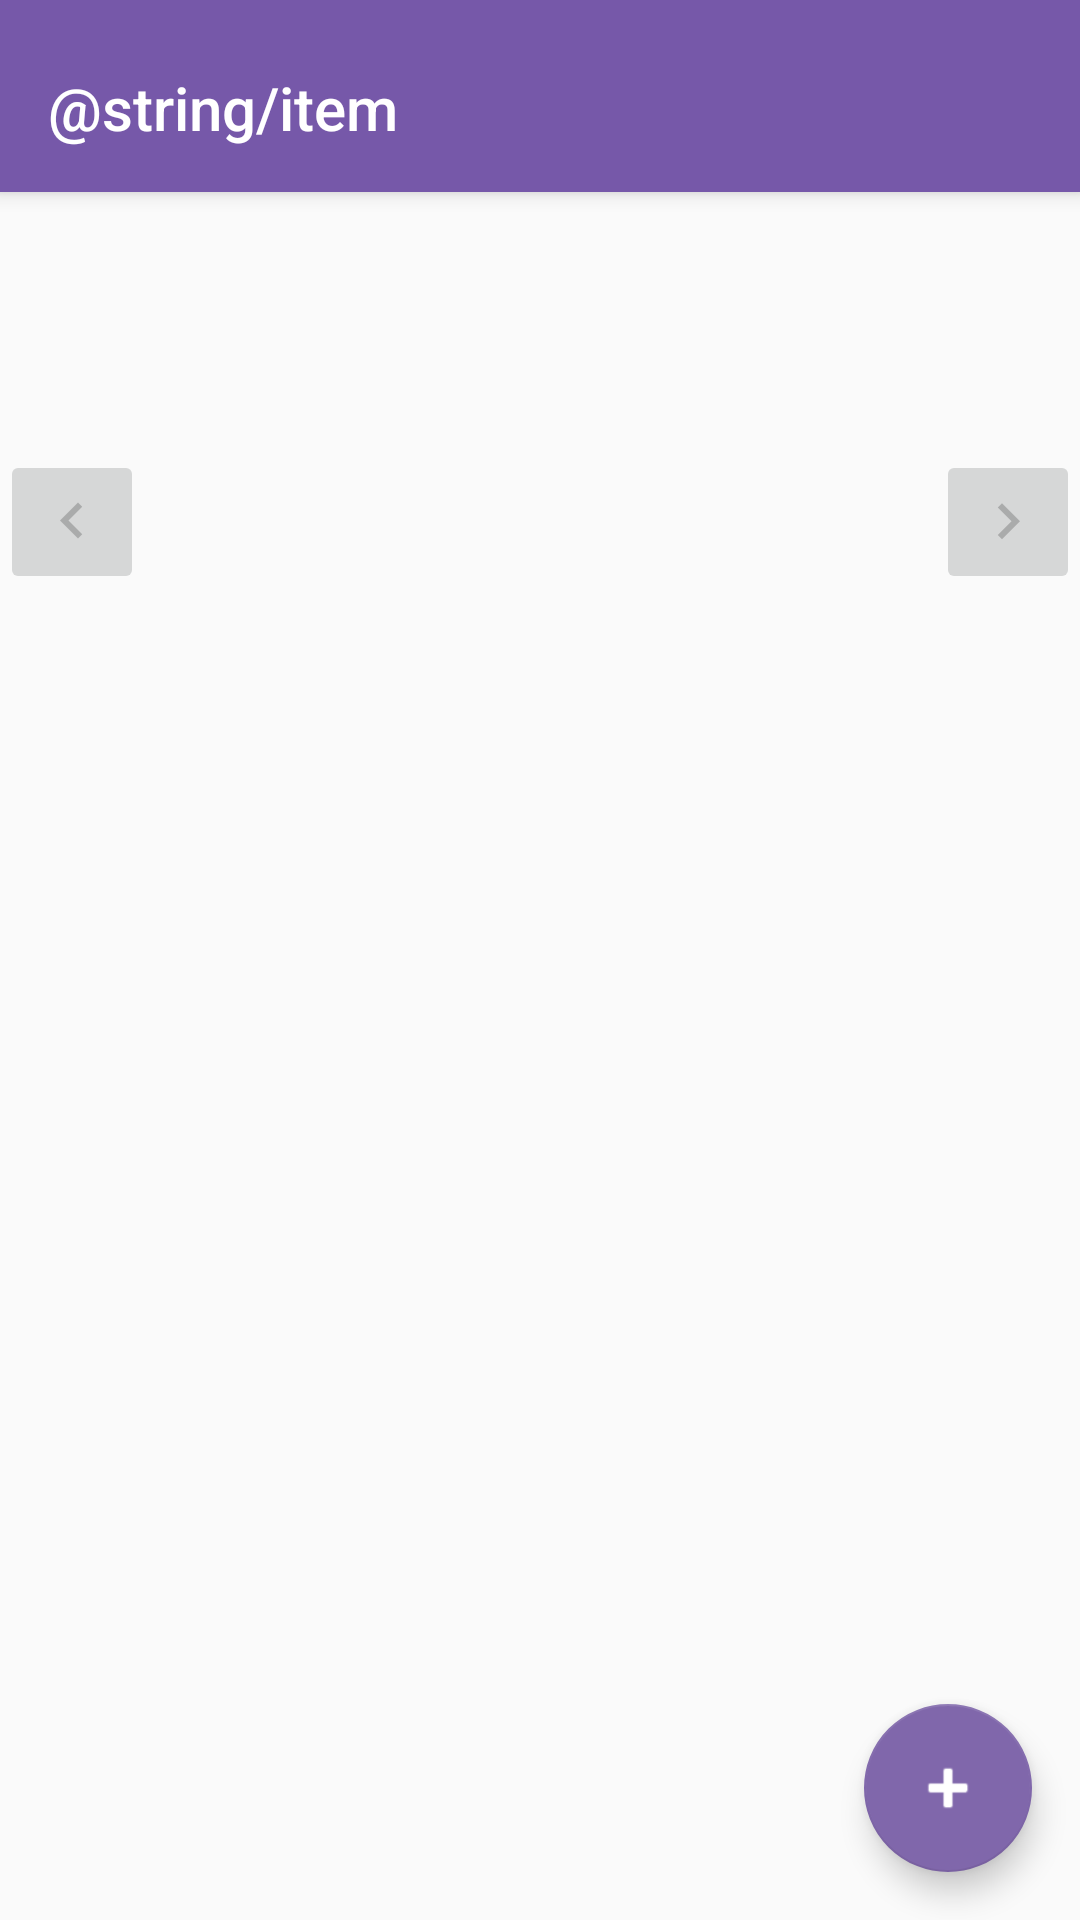

Where to tap for icons on this 1080px×1920px app screen, as (x,y):
add: (948,1788)
keyboard arrow left: (72,522)
keyboard arrow right: (1008,522)
